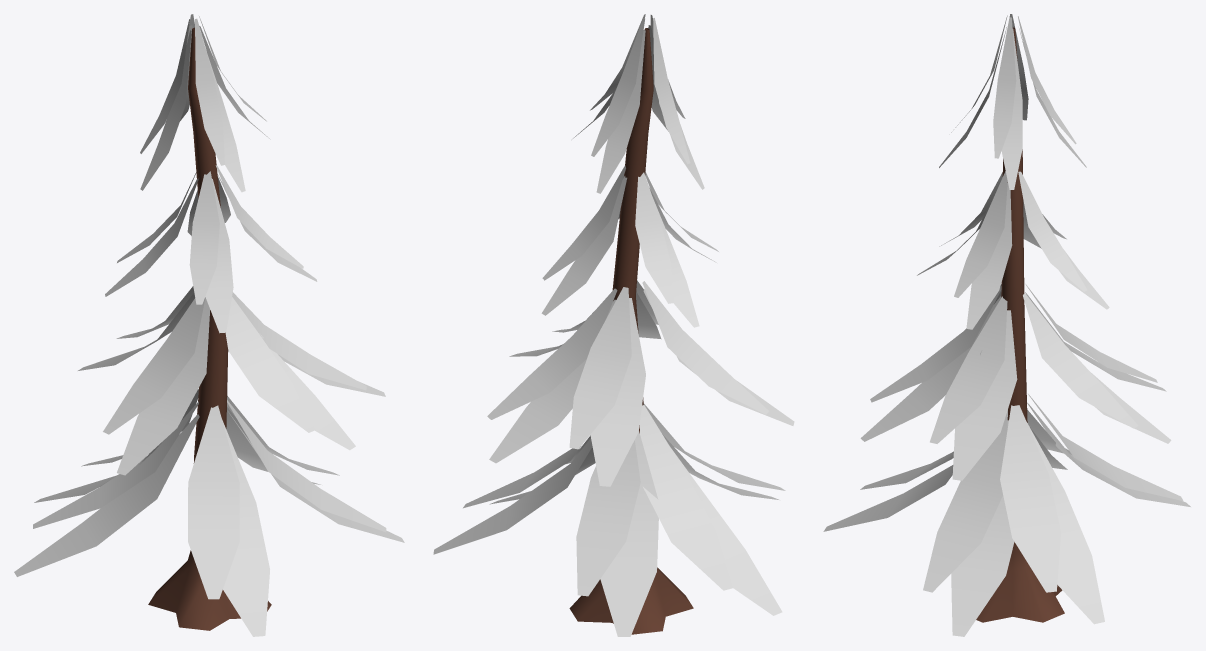
File: Fir4.fbx
3 renders of one model, left to right at view 1: azimuth 30°, elevation 25°; view 2: azimuth 150°, elevation 25°; view 3: azimuth 270°, elevation 25°, orthographic. The views are drawn at different scales.
Parts seen in each view (by area): view 1: Fir4; view 2: Fir4; view 3: Fir4.
Boxes of the visible parts, x1=… form: Fir4: x1=14, y1=14, x2=404, y2=636; Fir4: x1=433, y1=14, x2=794, y2=636; Fir4: x1=823, y1=14, x2=1190, y2=636.
Size of the model in its own units: 966 by 1615 by 933.
